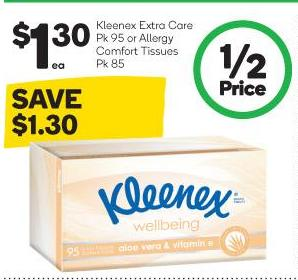description_block: (95, 18, 194, 72)
price_main: (5, 12, 91, 72)
product_image_block: (23, 141, 275, 273)
promo_text_block: (3, 79, 163, 149)
